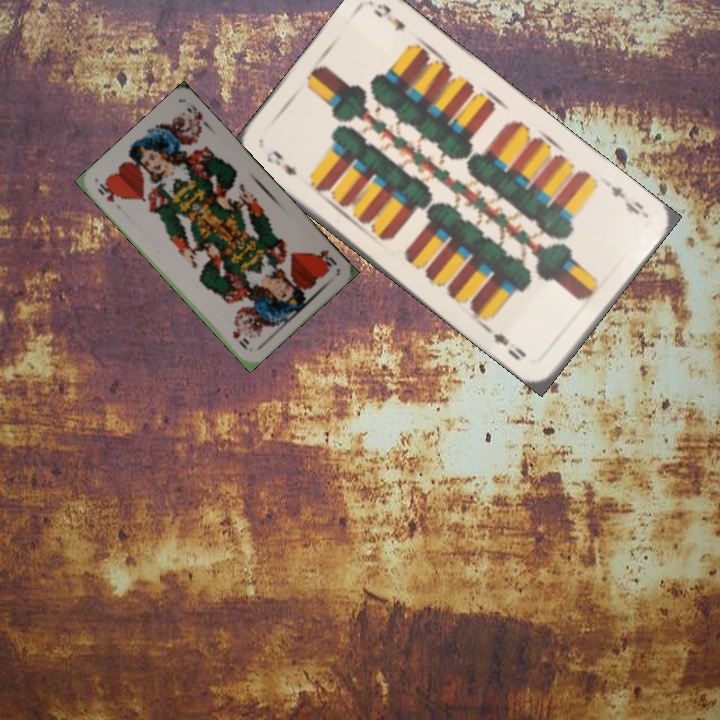E9: (607, 182, 650, 220), (262, 145, 300, 179)
HO: (309, 245, 339, 273), (94, 179, 120, 205)
